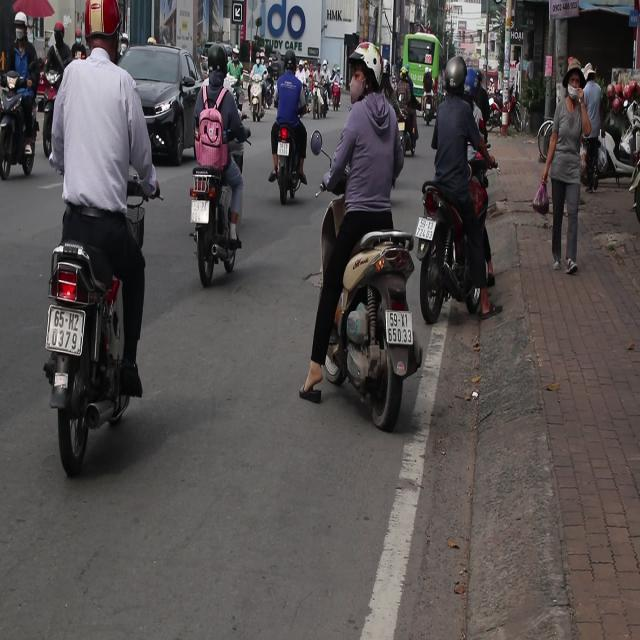bus: (398, 32, 441, 79)
car: (122, 44, 200, 167)
motorbike: (314, 221, 417, 452), (41, 234, 142, 468), (411, 193, 481, 340), (188, 160, 242, 286), (0, 75, 39, 180), (277, 116, 317, 203), (404, 106, 419, 154), (234, 83, 250, 122), (427, 85, 442, 124), (251, 73, 260, 111), (334, 81, 342, 108), (314, 67, 319, 104)
